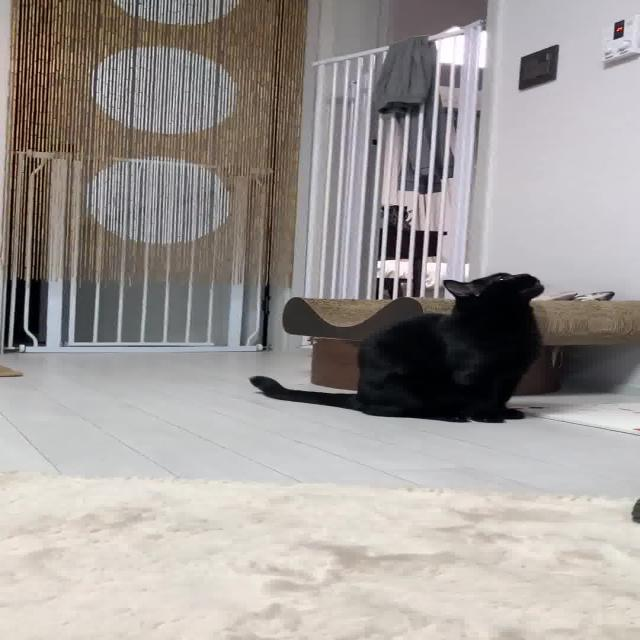cat: (250, 264, 546, 429)
